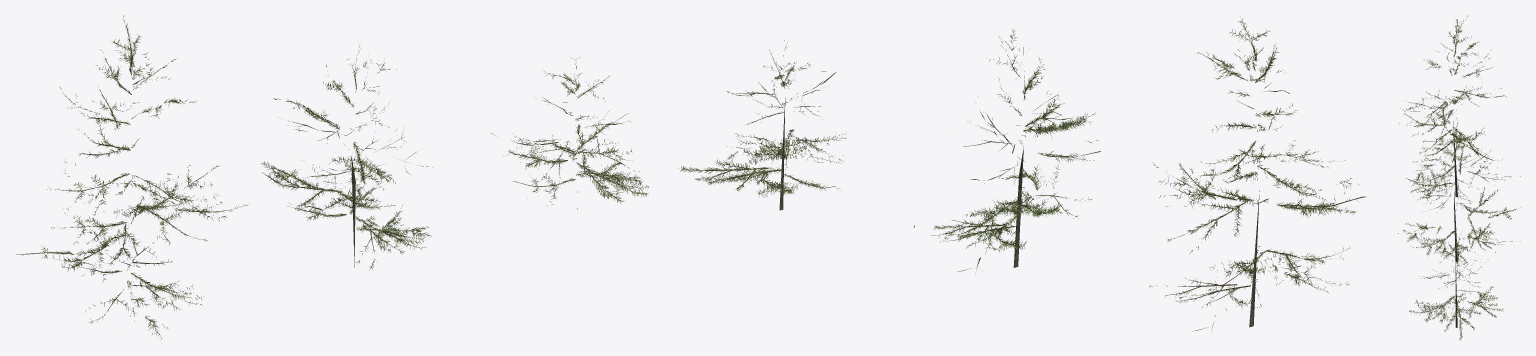
File: fir_sapling.glb
The picture shows the model from 3 angles, left to right: view 1: azimuth 30°, elevation 25°; view 2: azimuth 150°, elevation 25°; view 3: azimuth 270°, elevation 25°; orthographic projection. The views are drawn at different scales.
Visible parts, largest first — view 1: fir_sapling_a, fir_sapling_b, fir_sapling_c; view 2: fir_sapling_a, fir_sapling_b, fir_sapling_c; view 3: fir_sapling_a, fir_sapling_b, fir_sapling_c.
Part boxes in pixels (box(x1,y1,x2,y2)): fir_sapling_a: box(16, 15, 247, 340); fir_sapling_b: box(260, 45, 432, 270); fir_sapling_c: box(491, 57, 648, 209); fir_sapling_a: box(1149, 19, 1366, 331); fir_sapling_b: box(913, 29, 1100, 272); fir_sapling_c: box(678, 40, 846, 210); fir_sapling_a: box(1399, 15, 1520, 210); fir_sapling_b: box(1398, 130, 1520, 274); fir_sapling_c: box(1409, 232, 1503, 340).
Size of the model in its own units: 2.73 by 1.3 by 0.808.
Materials: 2 (2 with a texture image).
